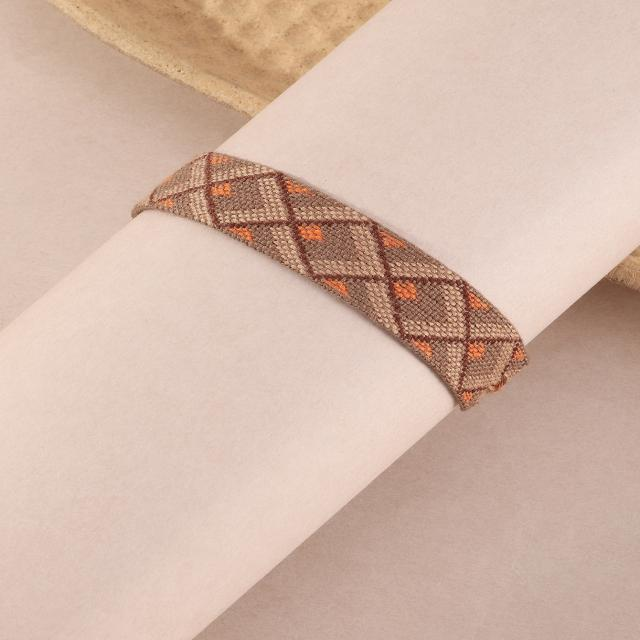bracelet: (88, 80, 613, 512)
